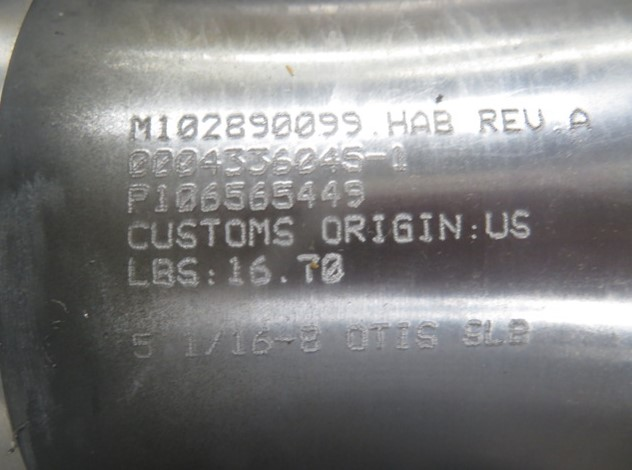character: (123, 255, 150, 293), (435, 211, 466, 244), (479, 210, 509, 244), (121, 219, 151, 253), (245, 253, 273, 289), (150, 146, 177, 182), (507, 208, 536, 241), (174, 146, 200, 182), (298, 323, 325, 357), (246, 177, 270, 215), (174, 256, 200, 291), (415, 318, 440, 354), (295, 252, 322, 285), (320, 251, 346, 285), (173, 182, 199, 216), (127, 148, 153, 182), (390, 211, 415, 246), (343, 212, 368, 247), (339, 144, 367, 175), (479, 315, 503, 351), (125, 182, 151, 215), (569, 107, 594, 141), (129, 328, 157, 358), (222, 216, 248, 248), (342, 175, 367, 208), (369, 319, 393, 353), (272, 213, 296, 247), (508, 314, 531, 349), (151, 256, 176, 288), (248, 217, 273, 249), (519, 106, 546, 135), (319, 213, 344, 244), (222, 181, 247, 212), (246, 146, 271, 177), (497, 106, 522, 137), (128, 113, 153, 144), (394, 318, 416, 353), (199, 180, 222, 213), (417, 210, 438, 246), (391, 139, 412, 175), (148, 218, 174, 247), (431, 109, 457, 138), (269, 147, 294, 177), (222, 147, 247, 177), (460, 317, 482, 351), (346, 323, 370, 354), (175, 218, 199, 249), (384, 108, 408, 139), (293, 110, 317, 141), (272, 178, 295, 210), (317, 144, 340, 176), (294, 146, 317, 178), (180, 328, 202, 361), (476, 107, 500, 137), (340, 110, 364, 140), (248, 111, 272, 141), (251, 327, 274, 357), (370, 209, 388, 247), (153, 182, 173, 216), (408, 110, 432, 138), (269, 111, 293, 139), (199, 215, 221, 245), (319, 177, 341, 207), (198, 147, 220, 177), (201, 113, 224, 141), (176, 114, 199, 142), (298, 177, 317, 210), (225, 110, 247, 138), (231, 328, 249, 360), (155, 112, 174, 142), (226, 255, 243, 288), (319, 110, 339, 138)
